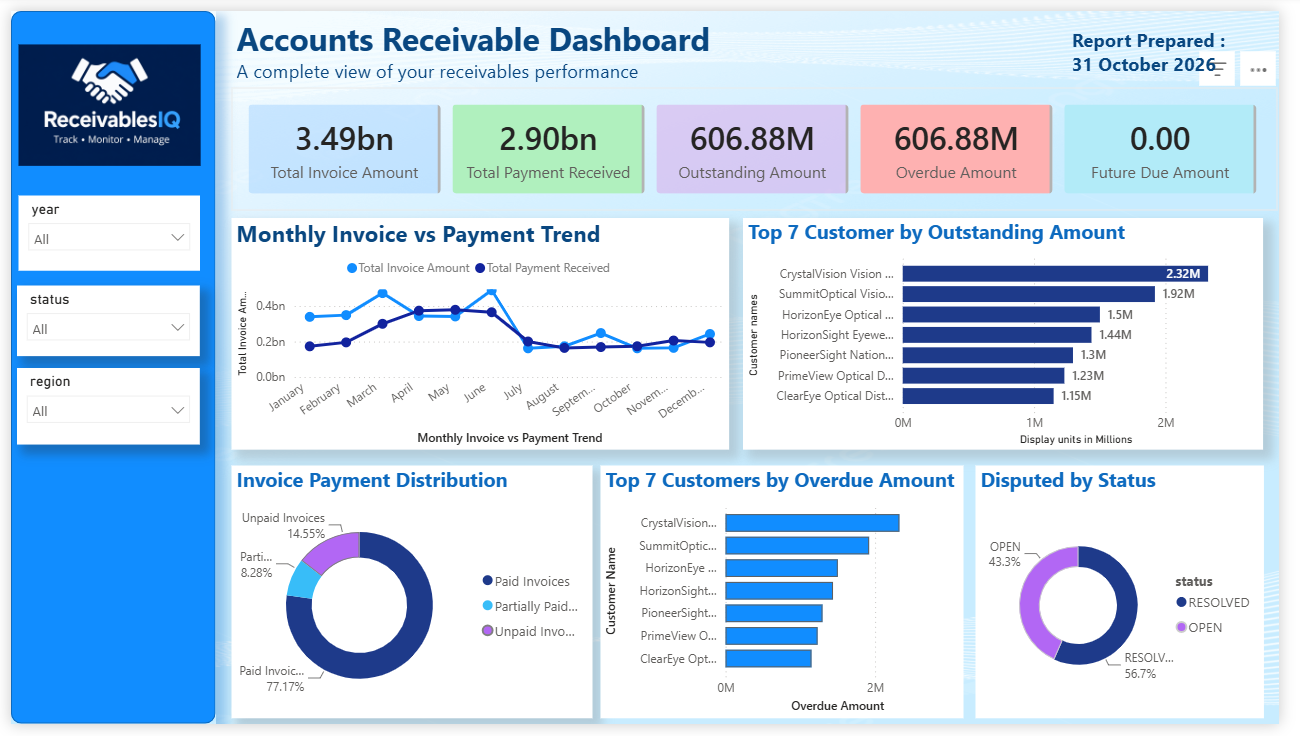

The dashboard page shown, as its layout file describes it:
{"tool":"powerbi","page":{"name":"Page 2","canvas":[1280,720],"ordinal":0},"visuals":[{"type":"shape","box":[0,0,206.6,719.7],"z":0},{"type":"textbox","box":[222.7,0,528.8,77.3],"z":1000},{"type":"cardVisual","fields":{"Data":["invoices.Total Invoice Amount","payments.Total Payment Received","invoices.Outstanding Amount","invoices.Overdue Amount","invoices.Future Due Amount"]},"box":[223,77.5,1056.4,124.7],"z":2000},{"type":"lineChart","title":"Monthly Invoice vs Payment Trend","fields":{"Category":["dim_date.date_key.Variation.Date Hierarchy.Month"],"Y":["invoices.Total Invoice Amount","payments.Total Payment Received"]},"box":[223,209.8,502.7,234.3],"z":3000},{"type":"barChart","title":"Top 7 Customer by Outstanding Amount","fields":{"Y":["invoices.Outstanding Amount"],"Category":["customers.customer_name"]},"box":[740.1,209.8,525.4,234.2],"z":4000},{"type":"donutChart","title":"Invoice Payment Distribution","fields":{"Y":["invoices.Paid Invoices","invoices.Partially Paid Invoices","invoices.Unpaid Invoices"]},"box":[223,459.2,364.7,255.1],"z":5000},{"type":"clusteredBarChart","title":"Top 7 Customers by Overdue Amount","fields":{"Category":["customers.customer_name"],"Y":["invoices.Overdue Amount"]},"box":[595.3,459.2,366.6,255.1],"z":6000},{"type":"donutChart","title":"Disputed by Status","fields":{"Category":["disputes.status"],"Y":["CountNonNull(disputes.dispute_id)"]},"box":[974.3,458.7,291.2,255.4],"z":7000},{"type":"slicer","title":"Year","fields":{"Values":["dim_date.year"]},"box":[7.6,186.4,183.3,75.8],"z":8000},{"type":"slicer","title":"Dispute Status","fields":{"Values":["disputes.status"]},"box":[6.1,277.3,184.8,71.2],"z":9000},{"type":"slicer","title":"Region","fields":{"Values":["customers.region"]},"box":[6.1,360.6,184.8,77.3],"z":9001},{"type":"image","box":[8.1,26,183.8,138.3],"z":9002},{"type":"textbox","title":"Data as of:  31 October 2026","box":[1066.7,10.6,198.5,66.7],"z":9003}]}

Visuals, with their boxes in screenshot pixels (x1, y1, x2, y2), scaled from the page's 1280x720 canvas onto the 1300x736 screenshot:
shape: <box>0,0,210,735</box>
textbox: <box>226,0,763,79</box>
cardVisual - invoices.Total Invoice Amount x payments.Total Payment Received: <box>226,79,1299,207</box>
"Monthly Invoice vs Payment Trend" lineChart: <box>226,214,737,454</box>
"Top 7 Customer by Outstanding Amount" barChart: <box>752,214,1285,454</box>
"Invoice Payment Distribution" donutChart: <box>226,469,597,730</box>
"Top 7 Customers by Overdue Amount" clusteredBarChart: <box>605,469,977,730</box>
"Disputed by Status" donutChart: <box>990,469,1285,730</box>
"Year" slicer: <box>8,191,194,268</box>
"Dispute Status" slicer: <box>6,283,194,356</box>
"Region" slicer: <box>6,369,194,448</box>
image: <box>8,27,195,168</box>
"Data as of:  31 October 2026" textbox: <box>1083,11,1285,79</box>
